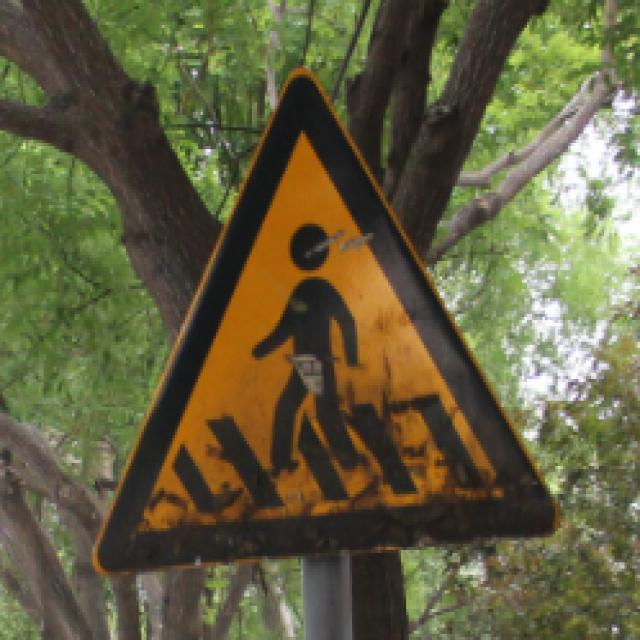Crossing: (84, 71, 566, 549)
